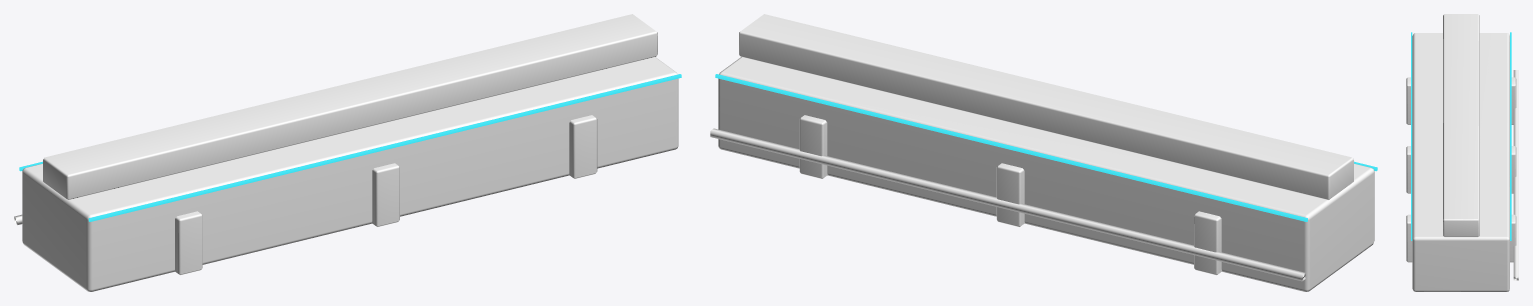
The model's file is monorail_segment.glb.
The picture shows the model from 3 angles, left to right: view 1: azimuth 30°, elevation 25°; view 2: azimuth 150°, elevation 25°; view 3: azimuth 270°, elevation 25°; orthographic projection. The views are drawn at different scales.
Parts seen in each view (by area): view 1: rail_beam, rail_top, rail_strip, rail_rib.002, rail_rib, rail_rib.001; view 2: rail_beam, rail_top, rail_cable, rail_strip.001, rail_rib.001, rail_rib.002, rail_rib; view 3: rail_beam, rail_top, rail_cable, rail_rib.002, rail_rib, rail_rib.001, rail_strip, rail_strip.001.
Boxes of the visible parts, x1,y1,x2,y2 form: rail_beam: [22, 57, 678, 291]; rail_top: [43, 14, 657, 200]; rail_strip: [88, 74, 681, 221]; rail_rib.002: [569, 115, 597, 178]; rail_rib: [174, 211, 202, 275]; rail_rib.001: [372, 163, 399, 226]; rail_beam: [718, 57, 1374, 291]; rail_top: [739, 14, 1353, 200]; rail_cable: [710, 128, 1305, 281]; rail_strip.001: [715, 74, 1307, 221]; rail_rib.001: [996, 163, 1024, 227]; rail_rib.002: [799, 115, 827, 178]; rail_rib: [1194, 211, 1221, 275]; rail_beam: [1412, 33, 1509, 291]; rail_top: [1443, 14, 1479, 237]; rail_cable: [1513, 70, 1518, 280]; rail_rib.002: [1406, 214, 1516, 262]; rail_rib: [1406, 77, 1516, 124]; rail_rib.001: [1406, 146, 1516, 193]; rail_strip: [1411, 32, 1412, 240]; rail_strip.001: [1510, 32, 1511, 240].
Bounding box in the file's own units: 12 × 2 × 2.76.
